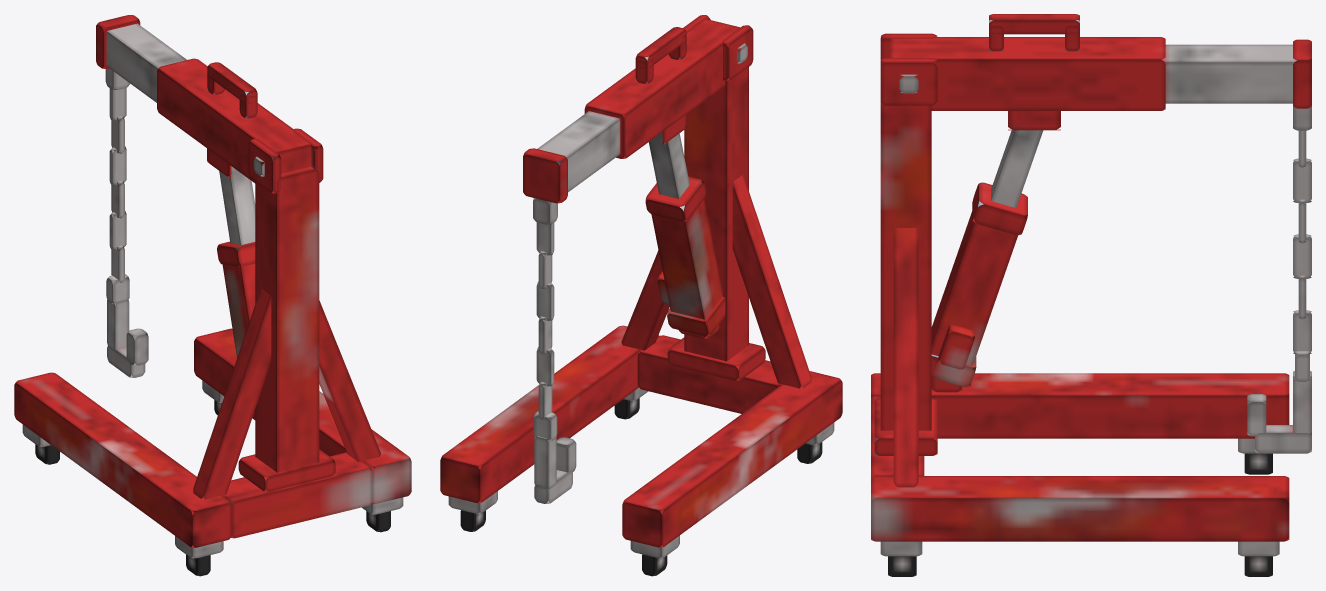
The model's file is engine_crane.obj.
The picture shows the model from 3 angles, left to right: view 1: azimuth 30°, elevation 25°; view 2: azimuth 150°, elevation 25°; view 3: azimuth 270°, elevation 25°; orthographic projection. The views are drawn at different scales.
Visible parts, largest first — view 1: mast_column, left_leg, boom_main_beam, mast_brace_left, rear_crossbeam, right_leg, mast_brace_right, boom_extension_arm, piston_rod, mast_mount_plate, cylinder_barrel, mesh (+13 smaller); view 2: left_leg, right_leg, mast_column, boom_main_beam, mast_brace_left, cylinder_barrel, rear_crossbeam, boom_extension_arm, mast_brace_right, boom_front_collar, mast_mount_plate, piston_rod (+15 smaller); view 3: right_leg, left_leg, boom_main_beam, mast_column, boom_extension_arm, mast_brace_right, cylinder_barrel, mast_top_right_ear, piston_rod, mesh, cylinder_top_collar, boom_handle_grip (+14 smaller).
Boxes of the visible parts, box(x1,y1,x2,y2) form: mast_column: box(255, 166, 319, 472); left_leg: box(14, 372, 231, 547); boom_main_beam: box(157, 58, 313, 183); mast_brace_left: box(193, 288, 271, 499); rear_crossbeam: box(222, 452, 372, 538); right_leg: box(194, 328, 411, 503); mast_brace_right: box(319, 300, 380, 461); boom_extension_arm: box(106, 23, 186, 102); piston_rod: box(219, 166, 255, 252); mast_mount_plate: box(238, 449, 335, 491); cylinder_barrel: box(222, 263, 255, 357); mesh: box(35, 400, 390, 576); left_leg: box(622, 371, 842, 547); right_leg: box(440, 325, 658, 503); mast_column: box(684, 67, 748, 361); boom_main_beam: box(584, 19, 739, 158); mast_brace_left: box(732, 175, 811, 388); cylinder_barrel: box(651, 199, 722, 325); rear_crossbeam: box(637, 335, 781, 413); boom_extension_arm: box(537, 111, 620, 192); mast_brace_right: box(621, 250, 669, 352); boom_front_collar: box(523, 148, 567, 203); mast_mount_plate: box(667, 337, 765, 380); piston_rod: box(648, 132, 689, 198); right_leg: box(871, 476, 1289, 541); left_leg: box(871, 373, 1289, 438); boom_main_beam: box(890, 37, 1165, 110); mast_column: box(880, 102, 931, 430); boom_extension_arm: box(1161, 44, 1296, 103); mast_brace_right: box(893, 228, 918, 487); cylinder_barrel: box(931, 201, 1017, 365); mast_top_right_ear: box(880, 58, 937, 105); piston_rod: box(991, 130, 1043, 207); mesh: box(888, 453, 1272, 576); cylinder_top_collar: box(972, 182, 1027, 235); boom_handle_grip: box(989, 14, 1079, 34).
Bounding box in the file's own units: 0.975 × 1.83 × 1.45.
